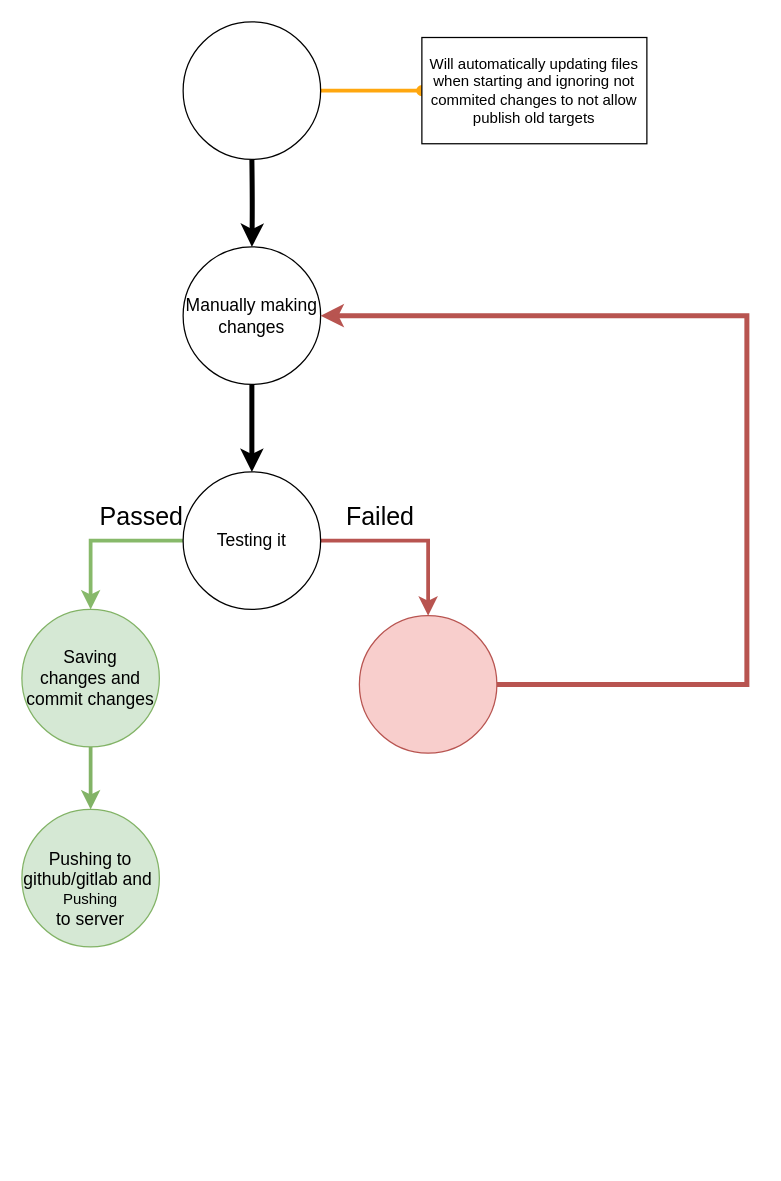
The diagram is 781 pixels wide and 1181 high, and some of its shapes have lost their labels. Each missing label, with the box of its shape:
Informing about error: (358, 614, 497, 753)
Running script: (182, 21, 321, 159)
